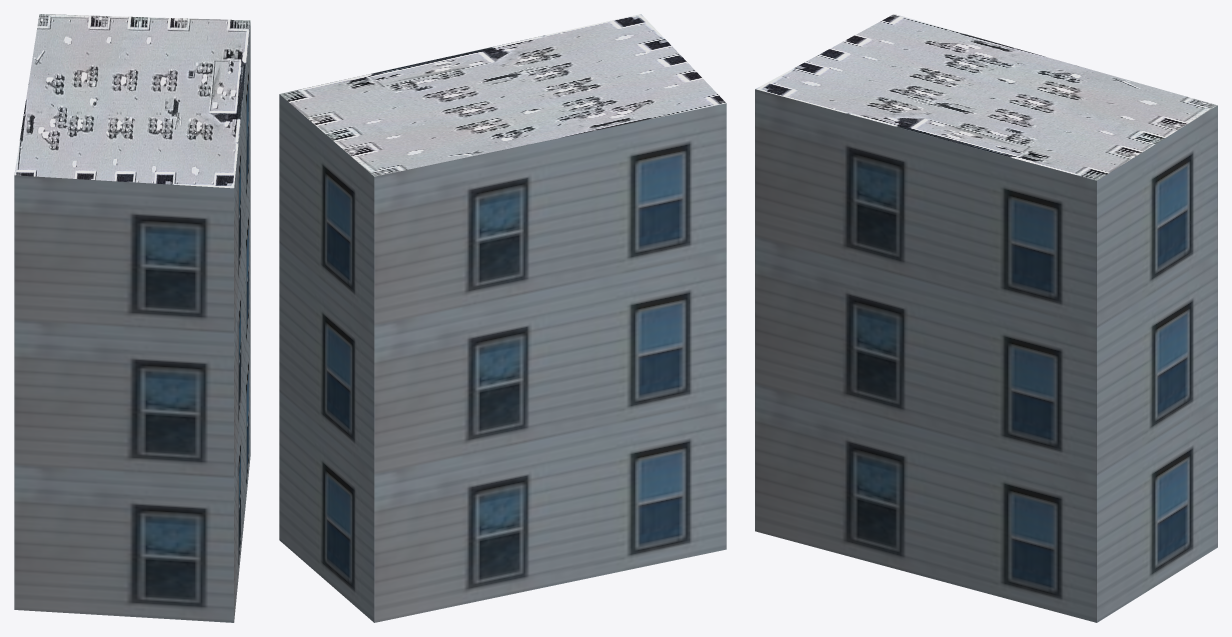
Rendered from ResTex__2703.fbx.
The picture shows the model from 3 angles, left to right: view 1: azimuth 30°, elevation 25°; view 2: azimuth 150°, elevation 25°; view 3: azimuth 270°, elevation 25°; orthographic projection. The views are drawn at different scales.
Visible parts, largest first — view 1: CityEngineMaterial_18_m, CityEngineMaterial_m; view 2: CityEngineMaterial_18_m, CityEngineMaterial_m; view 3: CityEngineMaterial_18_m, CityEngineMaterial_m.
Boxes of the visible parts, left/top/right/bottom form: CityEngineMaterial_18_m: left=14, top=22, right=250, bottom=622; CityEngineMaterial_m: left=14, top=14, right=250, bottom=188; CityEngineMaterial_18_m: left=279, top=94, right=726, bottom=622; CityEngineMaterial_m: left=279, top=14, right=726, bottom=176; CityEngineMaterial_18_m: left=755, top=89, right=1217, bottom=622; CityEngineMaterial_m: left=755, top=14, right=1217, bottom=180.
Bounding box in the file's own units: 7.28 × 9 × 8.54.
2 materials, 2 textured.
